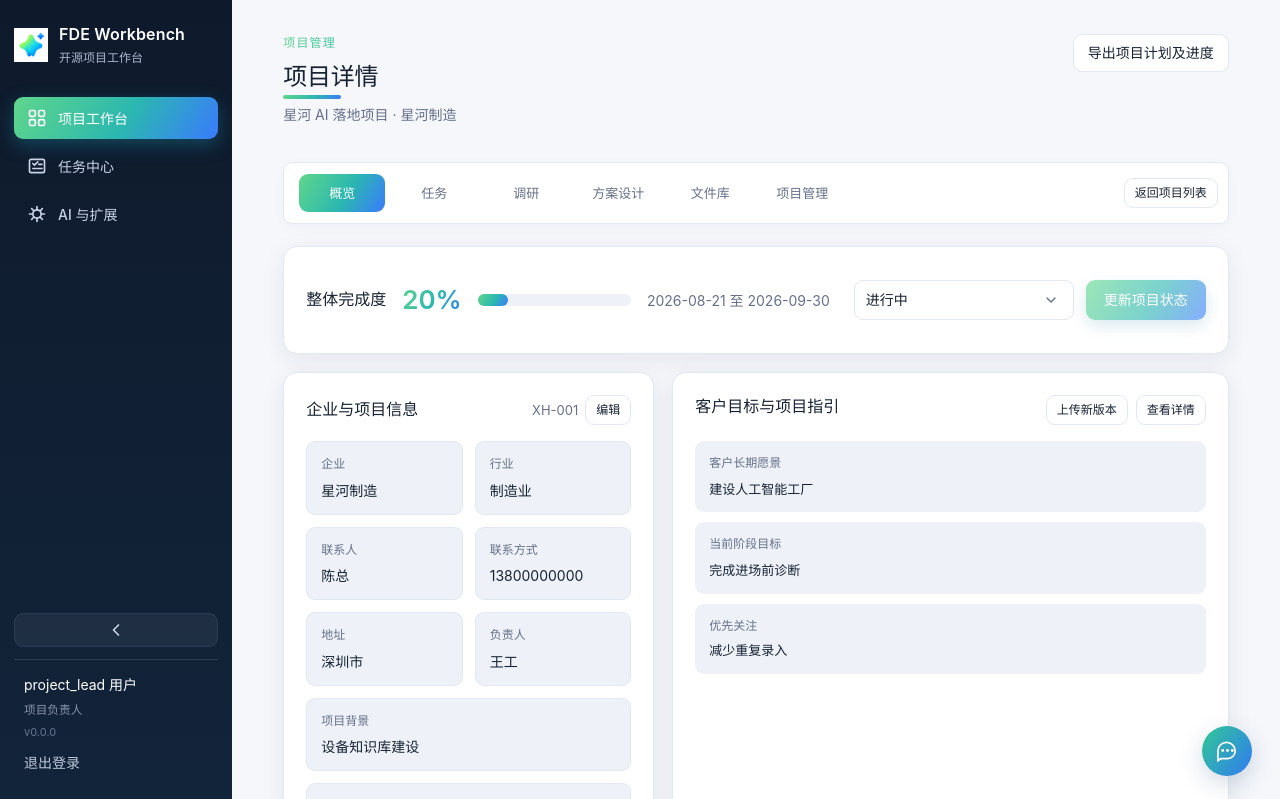
Test: project detail workspace › shows compact guidance in the overview and creates a revision before editing confirmed content
Expected: the text "建设人工智能工厂" is shown, [709,481,813,497]
Click the button "查看详情": (1171, 410) [1136,395,1206,425]
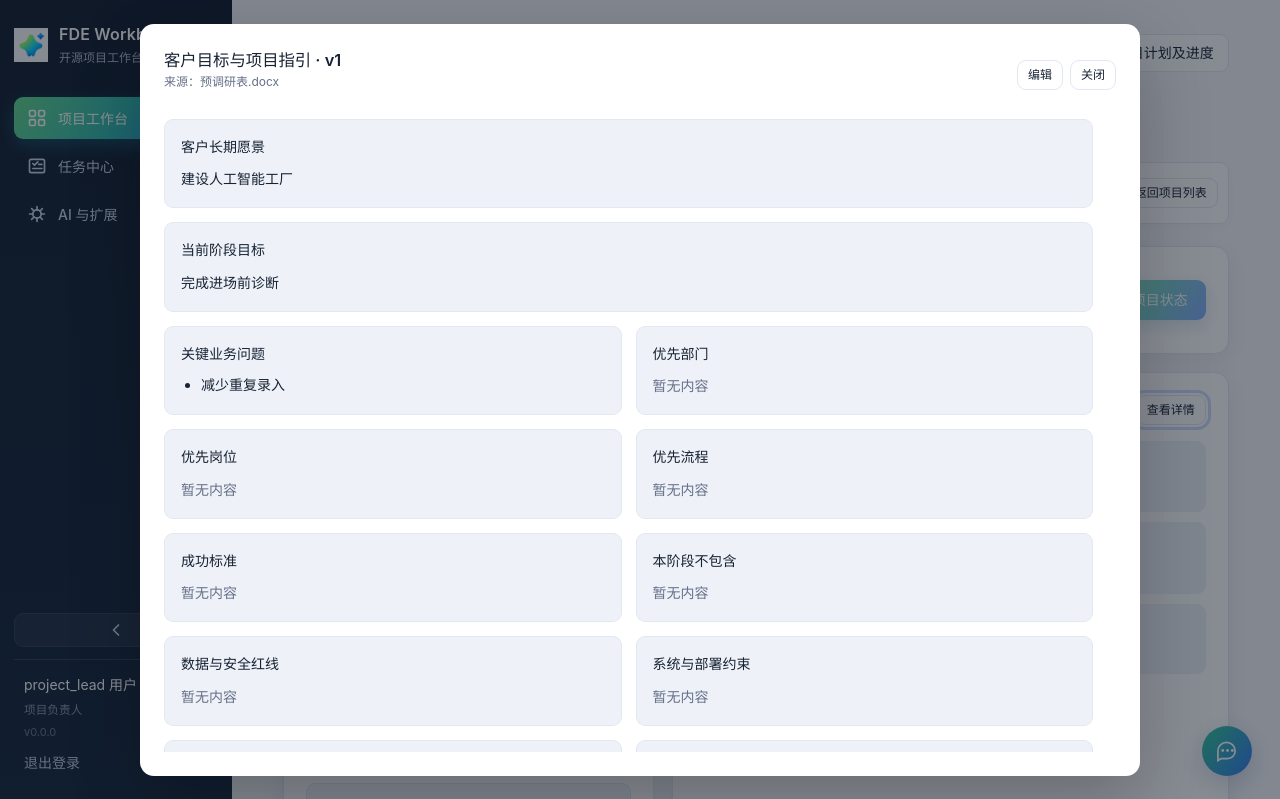
Click the button "编辑": (1040, 75) [1017,60,1063,90]
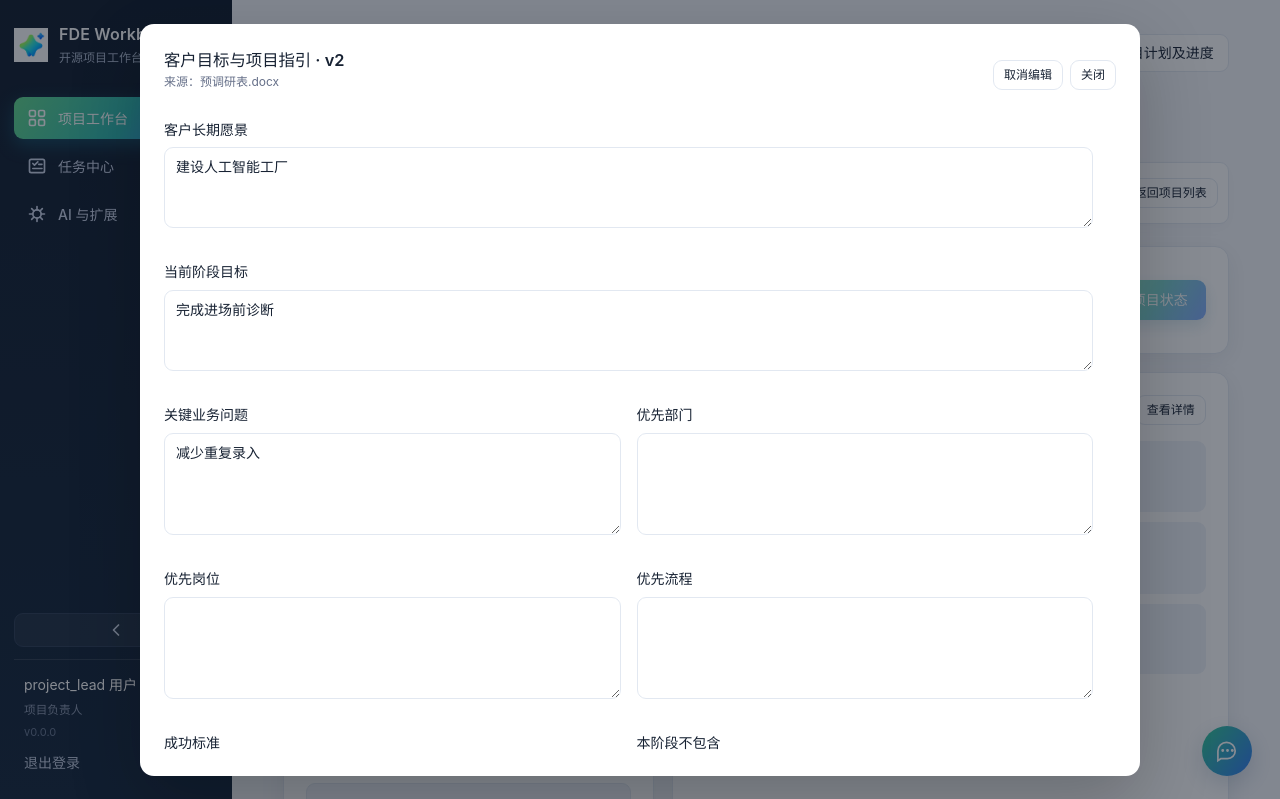
Now the text box labelled "客户长期愿景" holds "建设人工智能工厂", box [164,148,1093,228]
